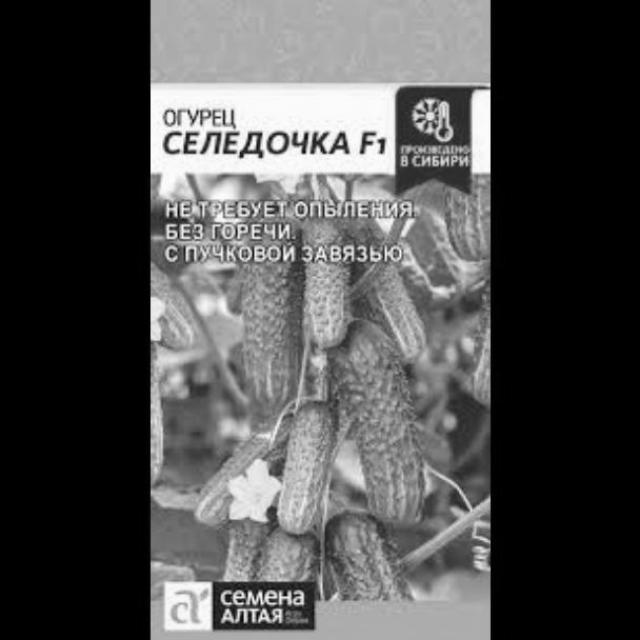dua chuot: (327, 320, 437, 524), (228, 185, 319, 419), (297, 481, 431, 603), (286, 204, 375, 367), (265, 400, 362, 537), (194, 407, 292, 540), (228, 486, 317, 607), (426, 164, 489, 314)
